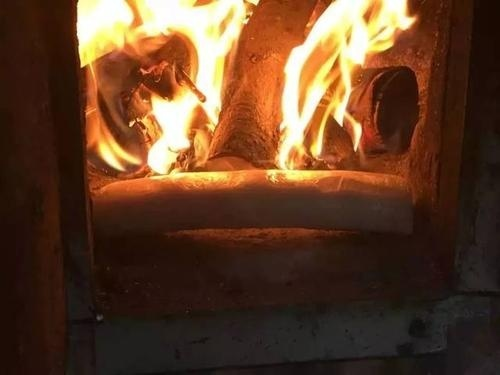fire: (74, 0, 257, 179), (271, 1, 415, 172)
